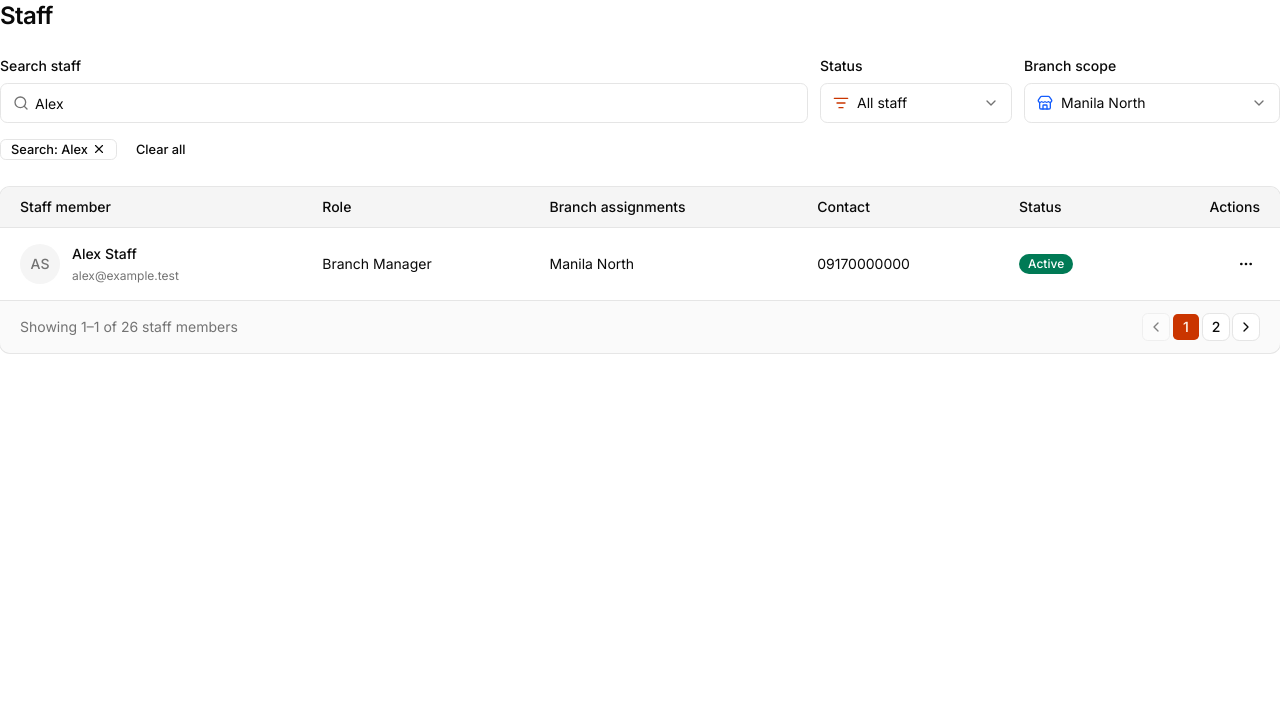
Scenario: staff directory › blocks dismissal during a save and keeps a failed draft without success feedback
Click the button named "Actions for Alex Staff" at (1246, 264), box [1232,250,1260,278]
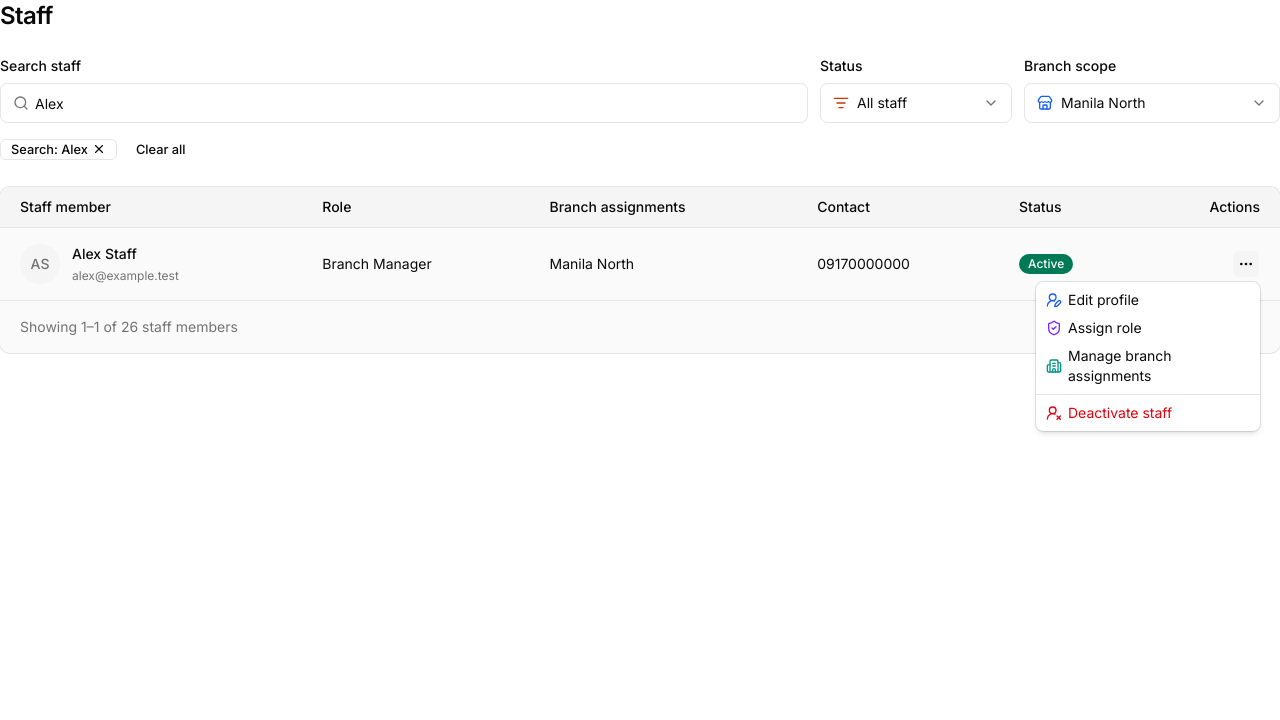
Click the menu item "Edit profile" at (1092, 300), box [1046,291,1139,308]
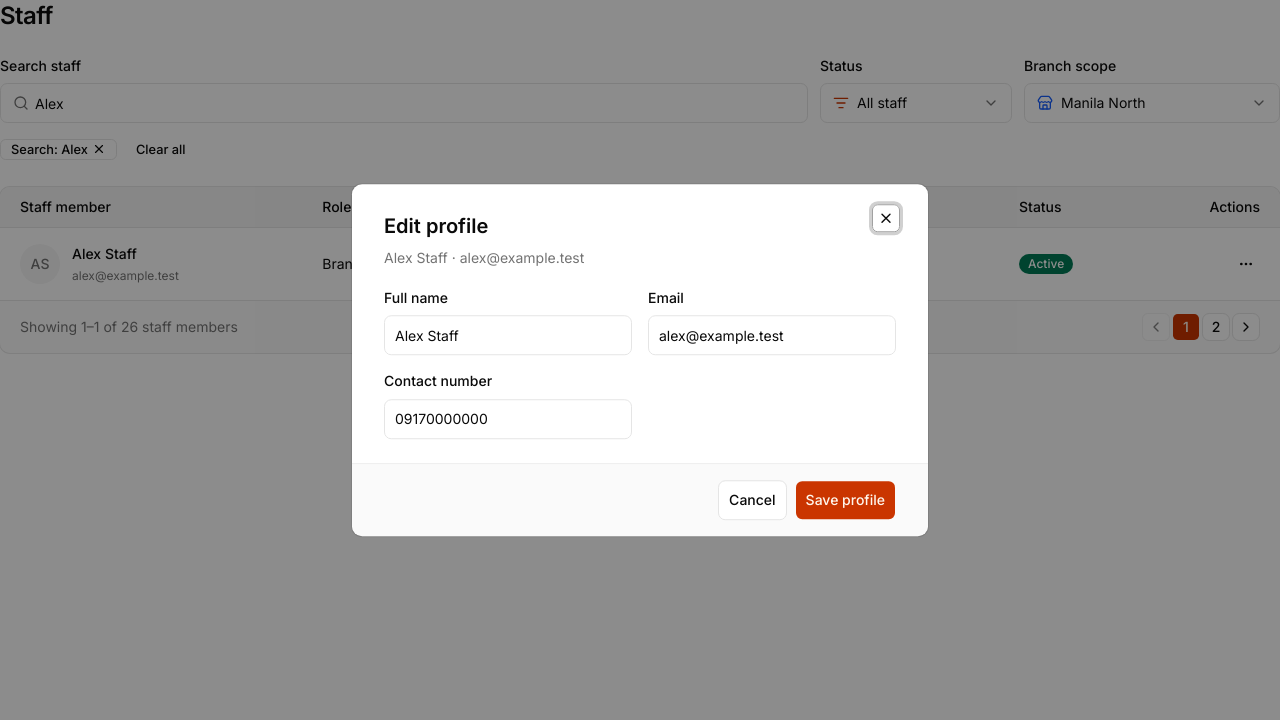
Replace the text in the field named "Full name for Alex Staff" with "Alex Draft" at (508, 336), box [384,316,632,356]
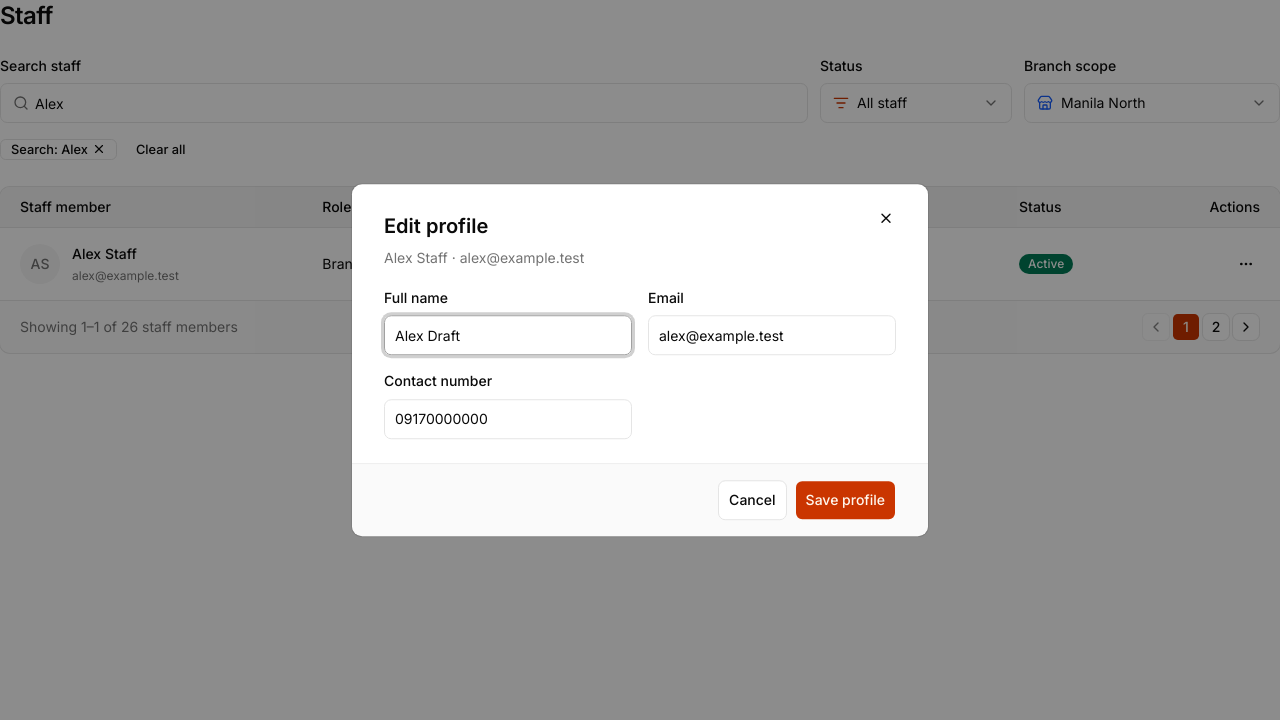
Click the button "Save profile" at (845, 500), box [795,480,896,520]
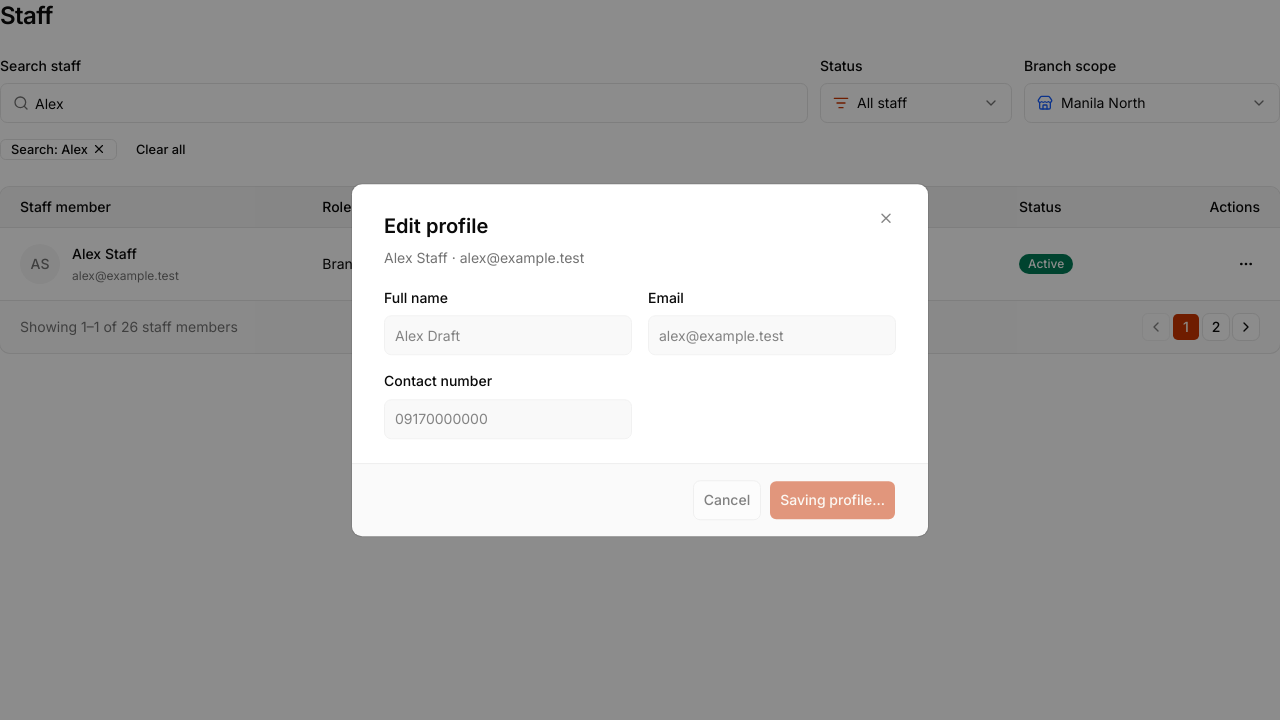
Expected: the button named "Close edit profile" is disabled, [872,204,900,232]
Expected: the button "Cancel" is disabled, [693,480,761,520]
Press Escape
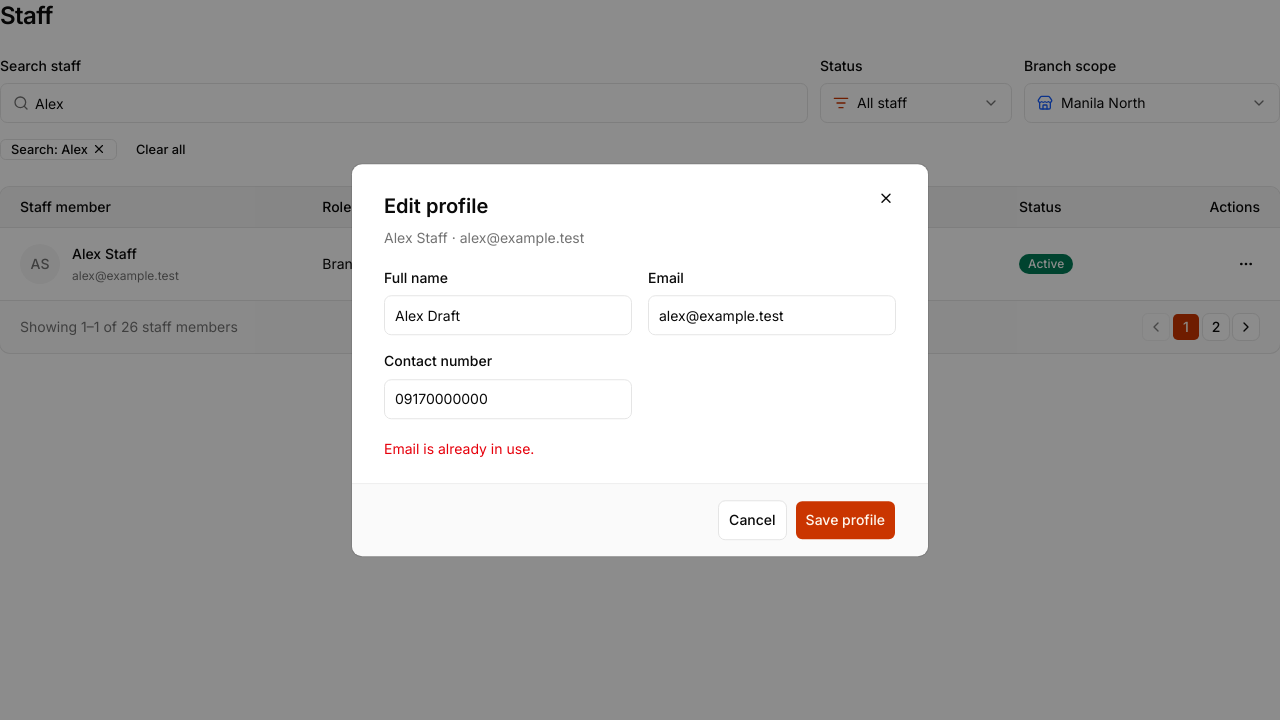
Expected: the dialog "Edit profile" is shown, [352,164,928,556]
Expected: the message reads "Email is already in use.", [384,440,534,457]
Press Escape
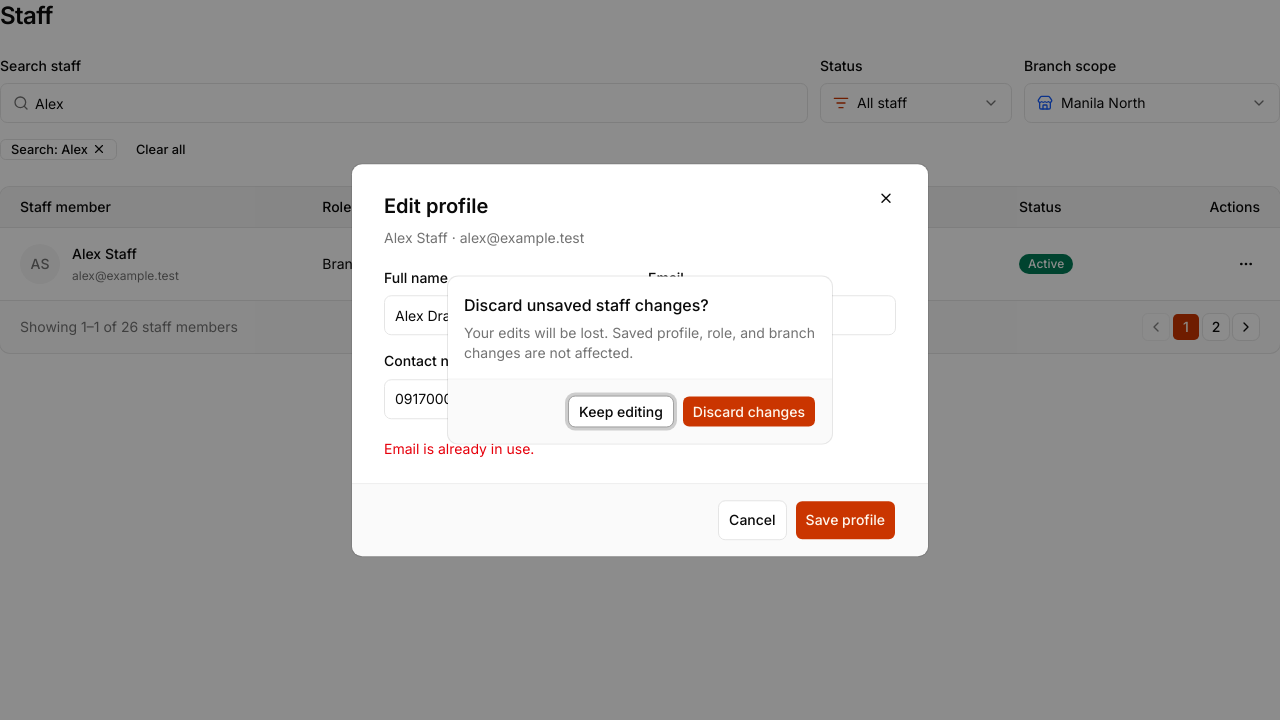
Expected: the dialog "Discard unsaved staff changes" is shown, [448,276,832,444]
